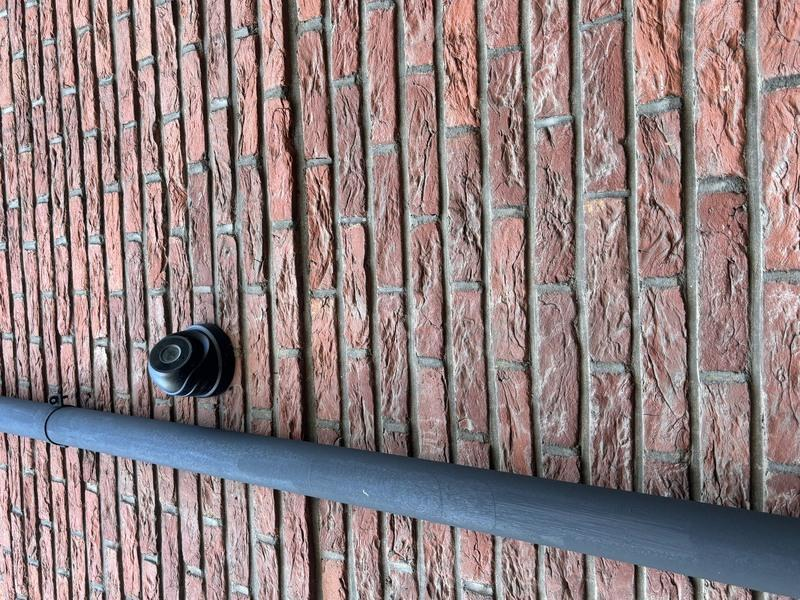turret: (192, 142, 285, 239)
